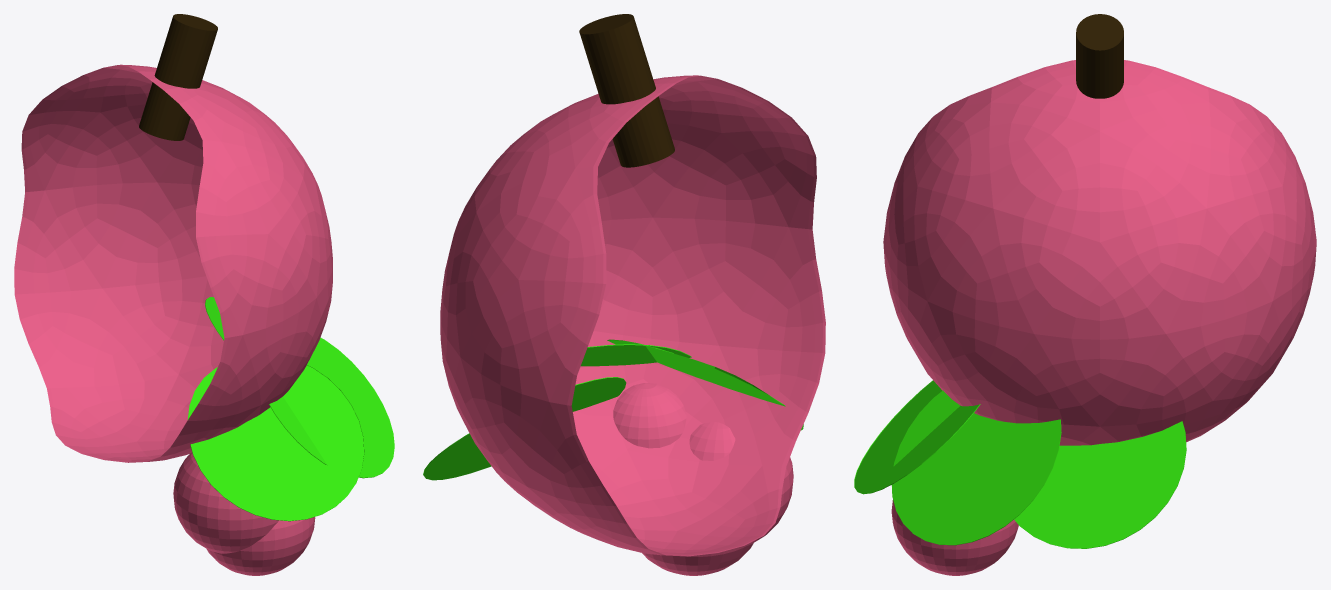
The model's file is berry.fbx.
The picture shows the model from 3 angles, left to right: view 1: azimuth 30°, elevation 25°; view 2: azimuth 150°, elevation 25°; view 3: azimuth 270°, elevation 25°; orthographic projection. The views are drawn at different scales.
Visible parts, largest first — view 1: Icosphere, Cylinder.003, Cylinder.002, Cylinder, Sphere, Sphere.002; view 2: Icosphere, Cylinder, Sphere.001, Cylinder.004, Cylinder.003, Sphere, Sphere.002, Cylinder.002; view 3: Icosphere, Cylinder.002, Cylinder.004, Cylinder.003, Cylinder, Sphere.002.
Boxes of the visible parts, x1=… form: Icosphere: x1=14, y1=64, x2=332, y2=462; Cylinder.003: x1=187, y1=365, x2=364, y2=521; Cylinder.002: x1=269, y1=337, x2=394, y2=478; Cylinder: x1=139, y1=14, x2=217, y2=140; Sphere: x1=173, y1=452, x2=278, y2=553; Sphere.002: x1=206, y1=517, x2=315, y2=575; Icosphere: x1=440, y1=75, x2=825, y2=556; Cylinder: x1=579, y1=14, x2=674, y2=167; Sphere.001: x1=613, y1=383, x2=686, y2=448; Cylinder.004: x1=423, y1=377, x2=626, y2=480; Cylinder.003: x1=607, y1=339, x2=803, y2=430; Sphere: x1=689, y1=422, x2=793, y2=548; Sphere.002: x1=642, y1=543, x2=753, y2=575; Cylinder.002: x1=581, y1=344, x2=691, y2=366; Icosphere: x1=883, y1=60, x2=1316, y2=445; Cylinder.002: x1=891, y1=390, x2=1061, y2=545; Cylinder.004: x1=1014, y1=421, x2=1186, y2=548; Cylinder.003: x1=854, y1=380, x2=980, y2=494; Cylinder: x1=1076, y1=14, x2=1123, y2=98; Sphere.002: x1=891, y1=500, x2=1018, y2=575.
Size of the model in its own units: 125 by 221 by 169.
